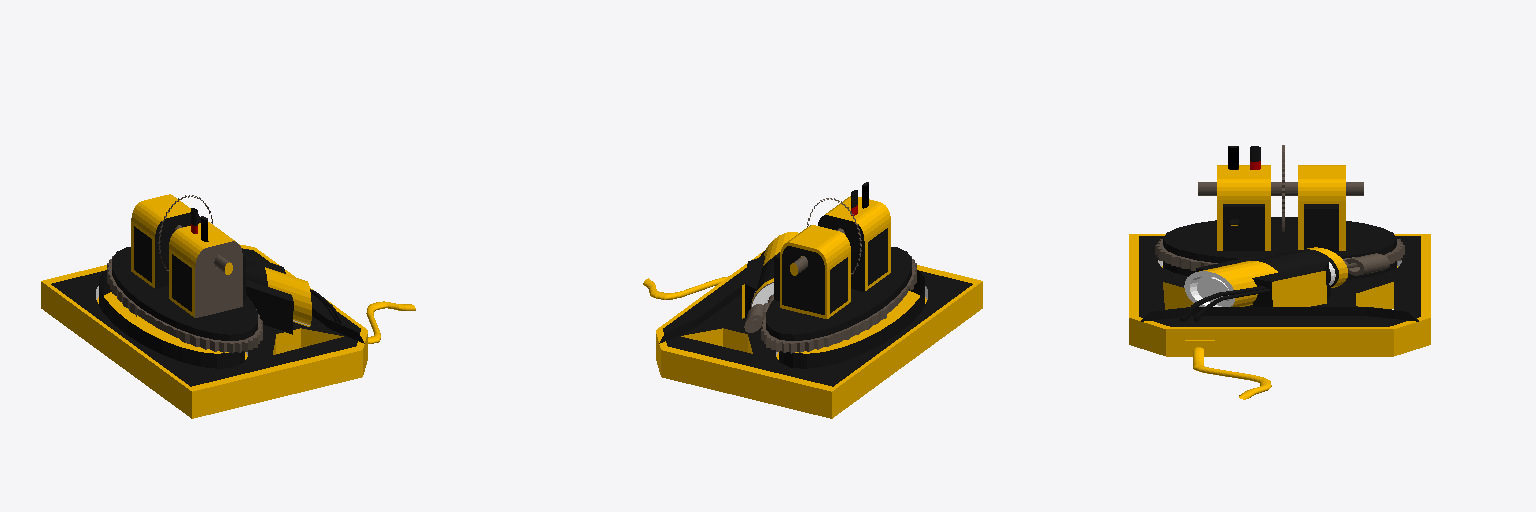
Rendered from dev1_4.obj.
The picture shows the model from 3 angles: view 1: azimuth 30°, elevation 25°; view 2: azimuth 150°, elevation 25°; view 3: azimuth 270°, elevation 25°; orthographic projection.
Visible parts, largest first — view 1: Voet_001, Draaivoet_001, Layer0_001; view 2: Voet_001, Draaivoet_001, Layer0_001; view 3: Voet_001, Draaivoet_001.
Part boxes in pixels (left/top/right/bottom): Voet_001: left=41, top=244, right=415, bottom=418; Draaivoet_001: left=107, top=194, right=262, bottom=353; Layer0_001: left=41, top=270, right=247, bottom=418; Voet_001: left=643, top=232, right=982, bottom=418; Draaivoet_001: left=744, top=182, right=916, bottom=353; Layer0_001: left=776, top=270, right=982, bottom=418; Voet_001: left=1129, top=234, right=1430, bottom=399; Draaivoet_001: left=1155, top=145, right=1404, bottom=275.
Size of the model in its own units: 46.81 by 24.22 by 43.97.